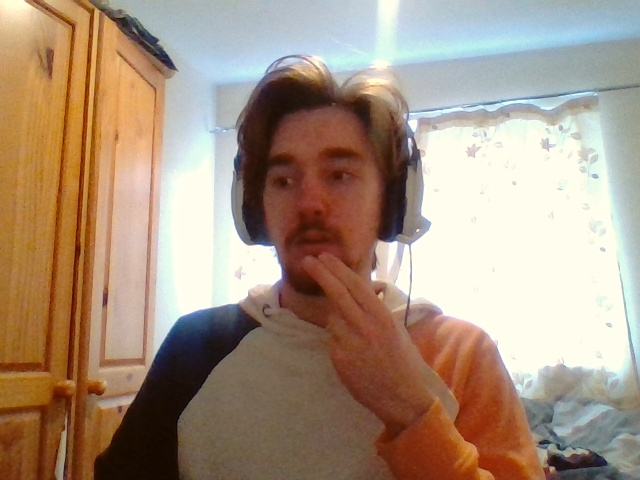afternoon: (300, 252, 430, 420)
